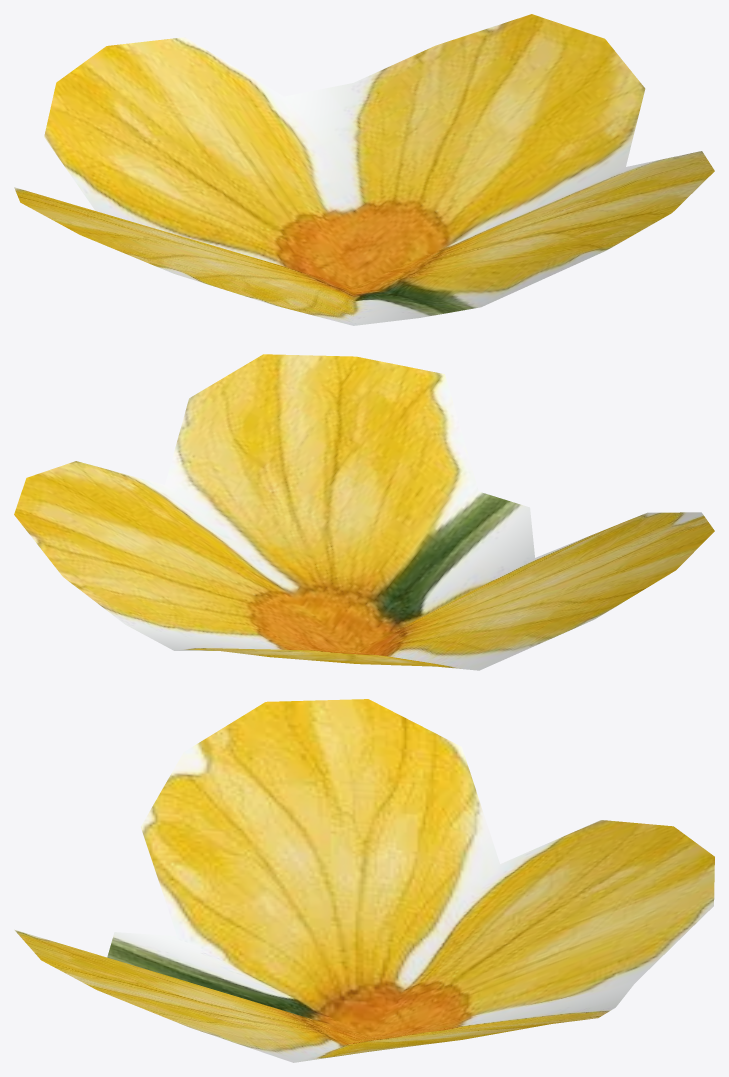
Rendered from turtle-prop-narra-flower.glb.
3 renders of one model, top to bottom at view 1: azimuth 30°, elevation 25°; view 2: azimuth 150°, elevation 25°; view 3: azimuth 270°, elevation 25°, orthographic. The views are drawn at different scales.
Parts seen in each view (by area): view 1: narra-flower; view 2: narra-flower; view 3: narra-flower.
Part boxes in pixels (x1=…): narra-flower: x1=14, y1=14, x2=714, y2=325; narra-flower: x1=14, y1=354, x2=714, y2=670; narra-flower: x1=14, y1=699, x2=714, y2=1062.
Size of the model in its own units: 0.03 by 0.0076 by 0.0281.
Materials: 1 (1 with a texture image).
